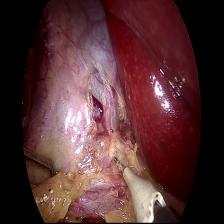Grasper: (22, 143, 60, 192)
Hook: (111, 156, 164, 222)
